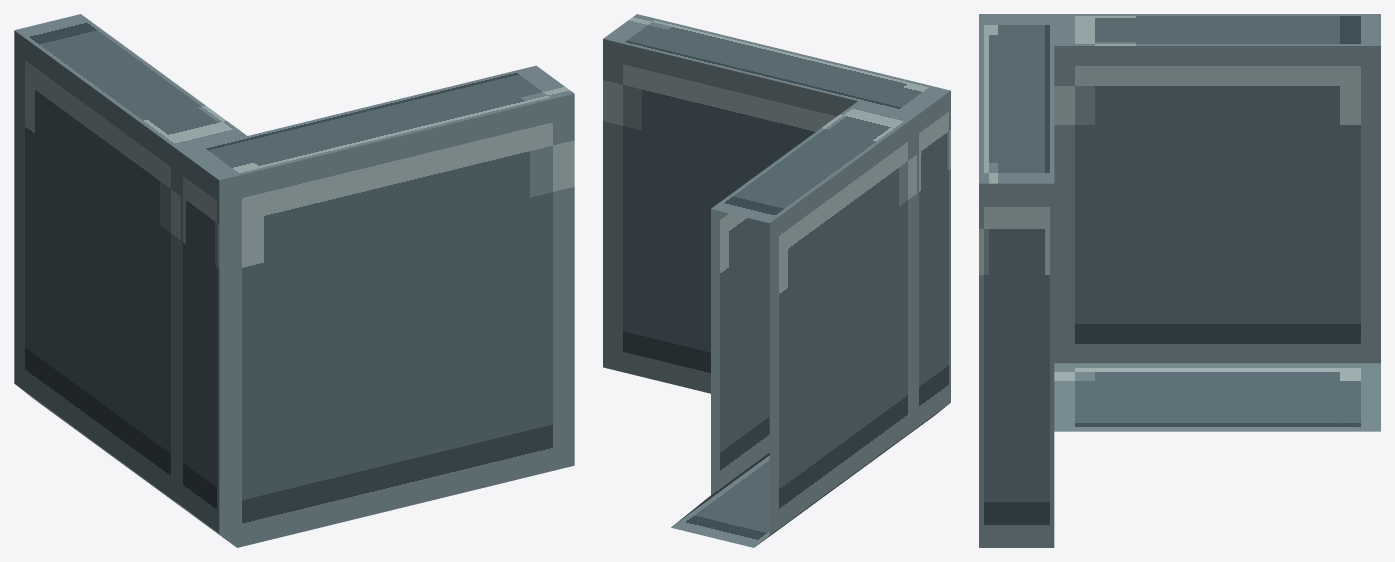
Rendered from casing_d7_rear_x-3_y-1.obj.
The picture shows the model from 3 angles, left to right: view 1: azimuth 30°, elevation 25°; view 2: azimuth 150°, elevation 25°; view 3: azimuth 270°, elevation 25°; orthographic projection. The views are drawn at different scales.
Visible parts, largest first — view 1: d7_rear_x-3_y-1; view 2: d7_rear_x-3_y-1; view 3: d7_rear_x-3_y-1.
Boxes of the visible parts, x1,y1,x2,y2 form: d7_rear_x-3_y-1: [14, 14, 574, 547]; d7_rear_x-3_y-1: [603, 14, 950, 547]; d7_rear_x-3_y-1: [979, 14, 1380, 547].
Bounding box in the file's own units: 1 × 1 × 1.
